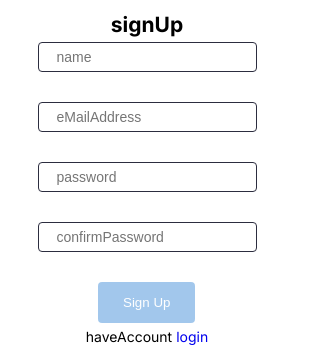
Test: SignUpPage › displays error messages if input fields are invalid
The width and height of the screenshot is (320, 362).
In the field with placeholder "name": (147, 57) [38,42,256,72], type "A"
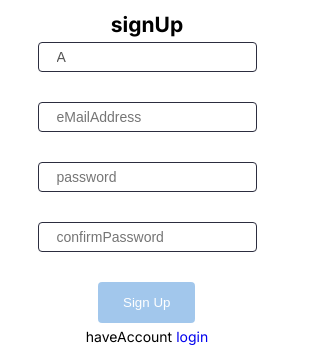
In the field with placeholder "eMailAddress": (147, 117) [38,102,256,132], type "invalidMailexample.com"
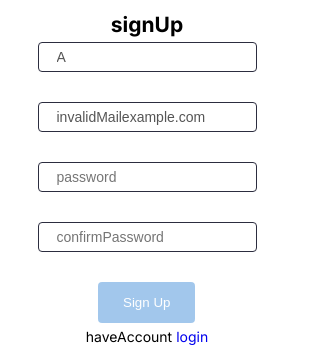
In the password field with placeholder "password": (147, 177) [38,162,256,192], type "BadPassword"
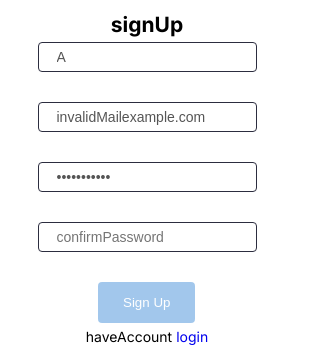
In the password field with placeholder "confirmPassword": (147, 237) [38,222,256,252], type "BadPassword1"
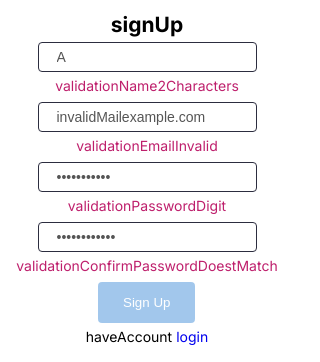
Now the text "validationName2Characters" is shown, box [55,77,239,94]
Now the text "validationEmailInvalid" is shown, box [76,137,218,154]
Now the text "validationPasswordDigit" is shown, box [68,197,226,214]
